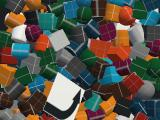Left: (43, 72, 85, 120)
